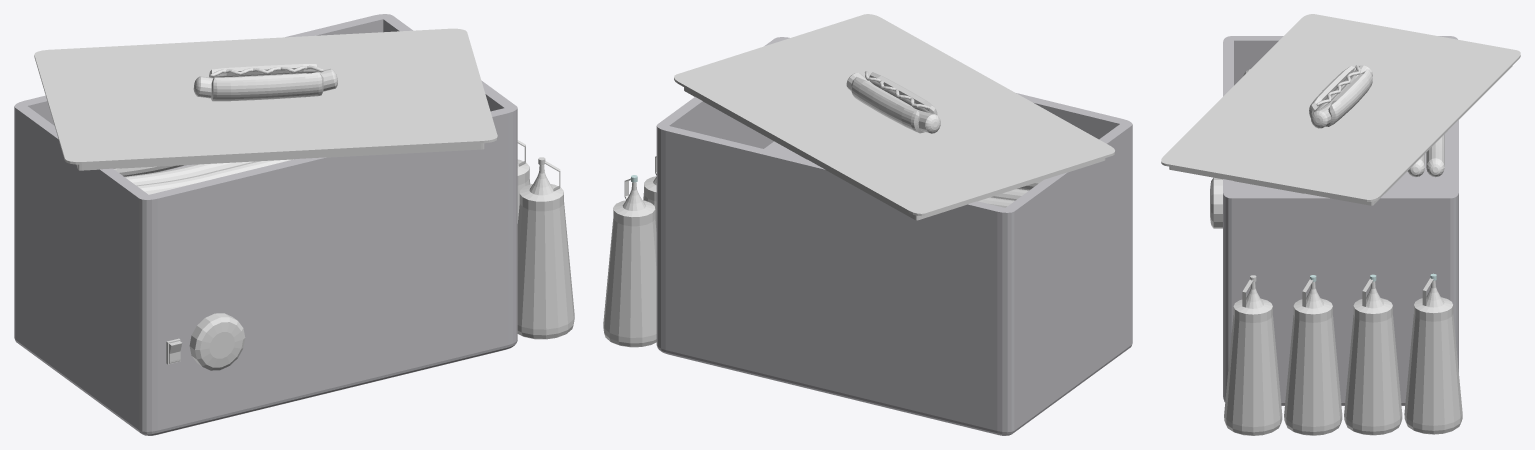
The model's file is Panchera 1.fbx.
The picture shows the model from 3 angles, left to right: view 1: azimuth 30°, elevation 25°; view 2: azimuth 150°, elevation 25°; view 3: azimuth 270°, elevation 25°; orthographic projection. The views are drawn at different scales.
Visible parts, largest first — view 1: Cube.007, Cube.008, Cylinder.021, Bread.003, Cylinder.012, Cylinder.015, Cylinder.020, Cylinder.011; view 2: Cube.007, Cube.008, Cylinder.027, Bread.003, Cylinder.011; view 3: Cube.008, Cube.007, Cylinder.021, Cylinder.025, Cylinder.027, Cylinder.023, Bread.003, Cylinder.012, Cylinder.016, Cylinder.011.
Boxes of the visible parts, x1,y1,x2,y2 form: Cube.007: (14, 14, 517, 435); Cube.008: (34, 28, 497, 170); Cylinder.021: (517, 157, 574, 339); Bread.003: (209, 64, 323, 101); Cylinder.012: (189, 313, 245, 370); Cylinder.015: (136, 159, 293, 194); Cylinder.020: (124, 161, 253, 185); Cylinder.011: (193, 68, 337, 98); Cube.007: (656, 37, 1132, 435); Cube.008: (674, 14, 1115, 220); Cylinder.027: (603, 178, 656, 347); Bread.003: (851, 72, 937, 133); Cylinder.011: (846, 72, 940, 133); Cube.008: (1161, 14, 1520, 205); Cube.007: (1223, 36, 1458, 405); Cylinder.021: (1224, 275, 1282, 435); Cylinder.025: (1344, 278, 1402, 435); Cylinder.027: (1404, 278, 1462, 434); Cylinder.023: (1284, 279, 1342, 435); Bread.003: (1309, 66, 1372, 126); Cylinder.012: (1210, 177, 1222, 228); Cylinder.016: (1426, 134, 1444, 177); Cylinder.011: (1311, 65, 1372, 128).
Bounding box in the file's own units: 53.6 × 30.15 × 40.2.
